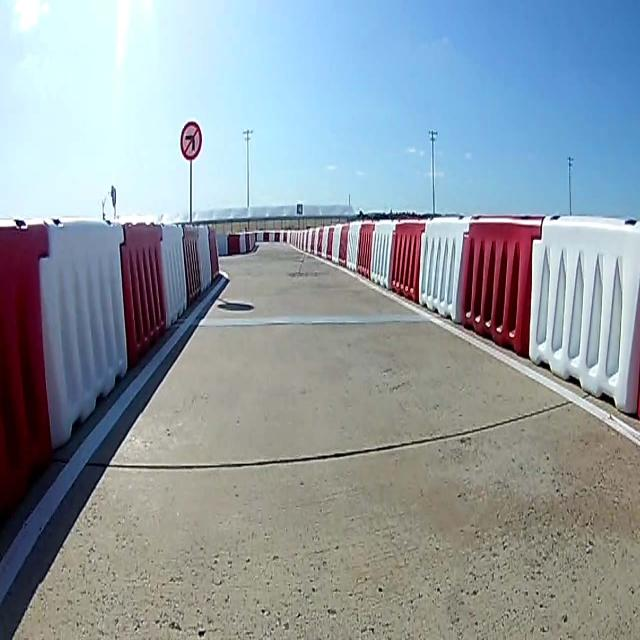soladonulmez: (178, 119, 204, 160)
